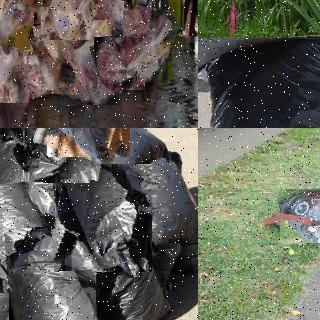Garbage: (52, 160, 157, 276), (198, 35, 320, 128), (6, 227, 98, 320), (0, 160, 62, 293), (126, 151, 198, 249), (62, 20, 122, 106), (0, 128, 91, 183), (17, 21, 79, 97), (118, 7, 177, 83), (39, 128, 137, 162), (93, 35, 148, 93), (279, 187, 320, 244), (0, 24, 29, 104), (40, 0, 92, 40), (0, 0, 37, 47)
